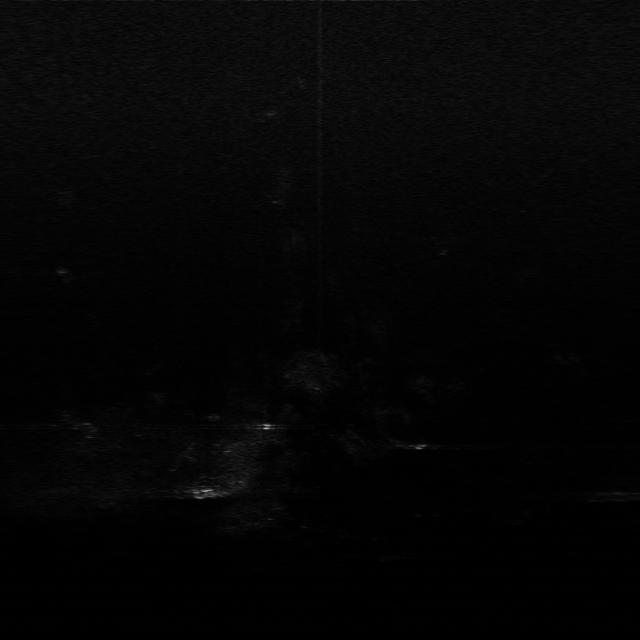rov: (184, 484, 226, 502)
